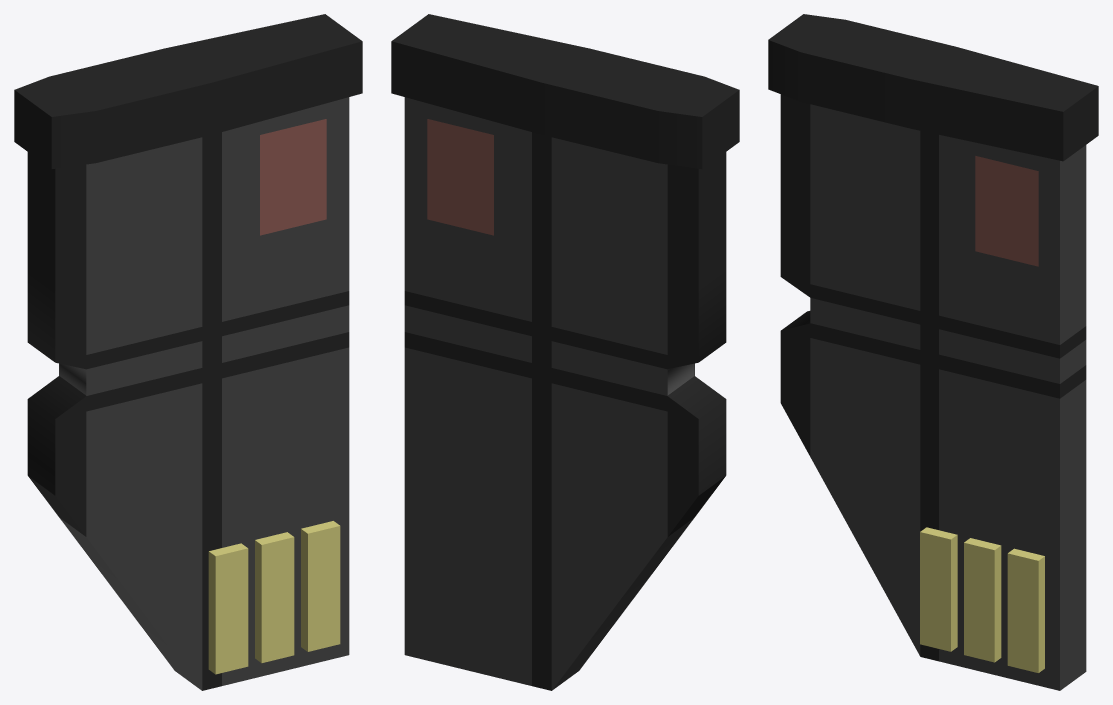
The model's file is Memoria.fbx.
3 renders of one model, left to right at view 1: azimuth 30°, elevation 25°; view 2: azimuth 150°, elevation 25°; view 3: azimuth 330°, elevation 25°, orthographic. The views are drawn at different scales.
Visible parts, largest first — view 1: polySurface2; view 2: polySurface2; view 3: polySurface2.
Boxes of the visible parts, x1,y1,x2,y2 form: polySurface2: (14, 14, 362, 690); polySurface2: (391, 14, 739, 690); polySurface2: (768, 14, 1098, 690).
Size of the model in its own units: 20.98 by 39.7 by 5.49.
